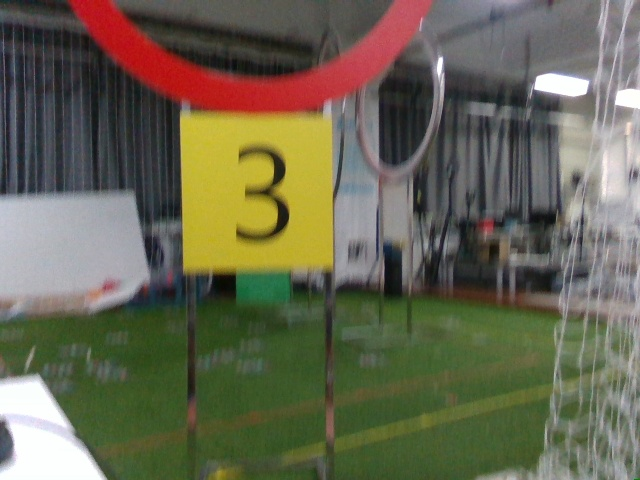target: (182, 123, 329, 256)
